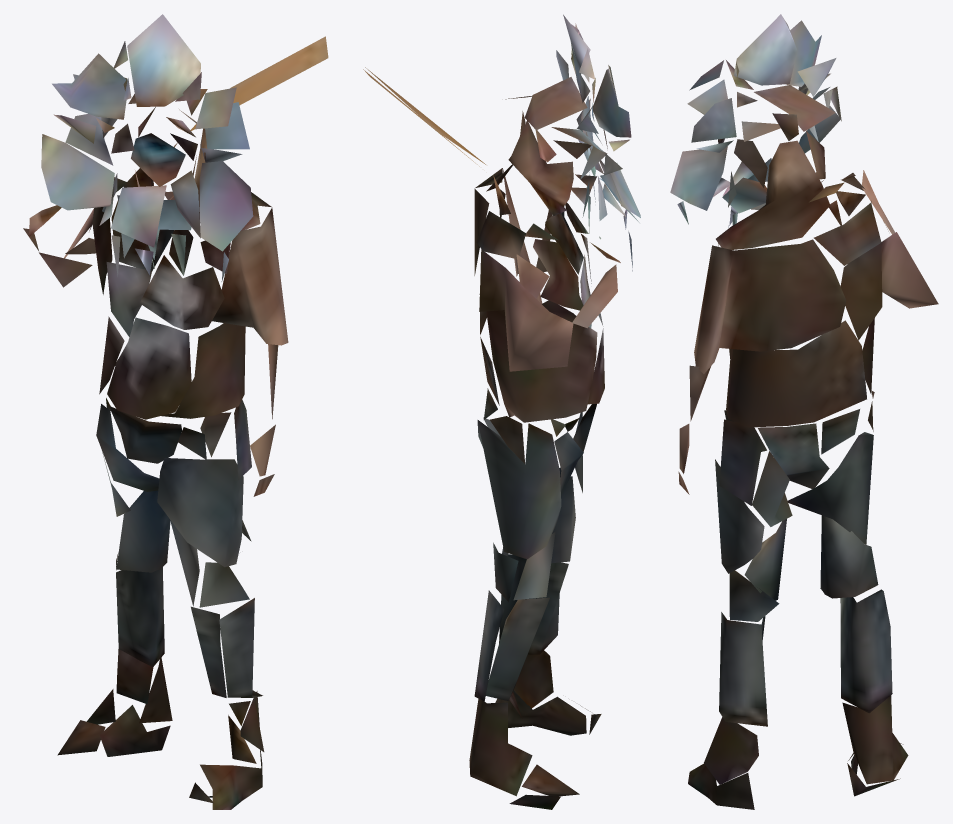
Rendered from cast_tough_far.glb.
3 renders of one model, left to right at view 1: azimuth 30°, elevation 25°; view 2: azimuth 150°, elevation 25°; view 3: azimuth 270°, elevation 25°, orthographic. The views are drawn at different scales.
Visible parts, largest first — view 1: tripo_node_533e37fd-5cc7-4275-9052-2d8a21aa2958; view 2: tripo_node_533e37fd-5cc7-4275-9052-2d8a21aa2958; view 3: tripo_node_533e37fd-5cc7-4275-9052-2d8a21aa2958.
Boxes of the visible parts, bbox=[...] form: tripo_node_533e37fd-5cc7-4275-9052-2d8a21aa2958: bbox=[23, 14, 328, 809]; tripo_node_533e37fd-5cc7-4275-9052-2d8a21aa2958: bbox=[363, 14, 640, 809]; tripo_node_533e37fd-5cc7-4275-9052-2d8a21aa2958: bbox=[670, 14, 938, 809].
Bounding box in the file's own units: 0.3886 × 0.9981 × 0.3165.
1 material, 1 textured.
